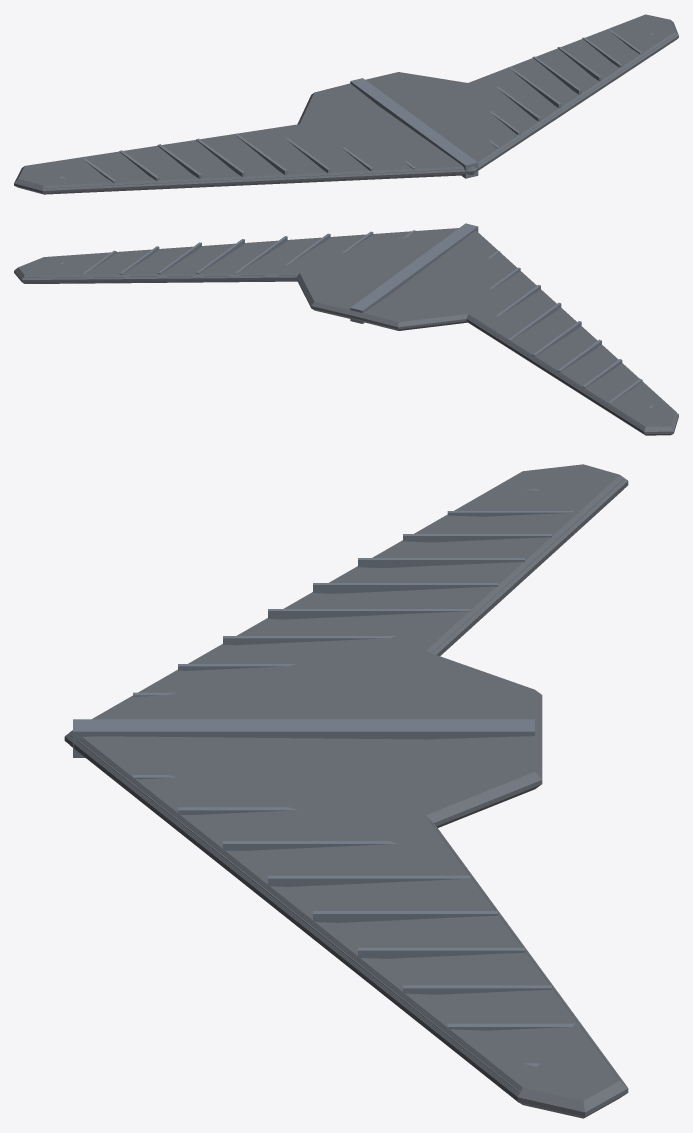
Rendered from dread_step03_wing_core.glb.
3 renders of one model, top to bottom at view 1: azimuth 30°, elevation 25°; view 2: azimuth 150°, elevation 25°; view 3: azimuth 270°, elevation 25°, orthographic. The views are drawn at different scales.
Visible parts, largest first — view 1: wing_core, keel_spars; view 2: wing_core, keel_spars; view 3: wing_core, keel_spars.
Part boxes in pixels (left/top/right/bottom): wing_core: left=14, top=14, right=678, bottom=194; keel_spars: left=44, top=29, right=676, bottom=193; wing_core: left=14, top=228, right=678, bottom=435; keel_spars: left=24, top=223, right=676, bottom=433; wing_core: left=64, top=464, right=628, bottom=1118; keel_spars: left=69, top=478, right=623, bottom=1102.
Bounding box in the file's own units: 62.7 × 3.4 × 23.2.
